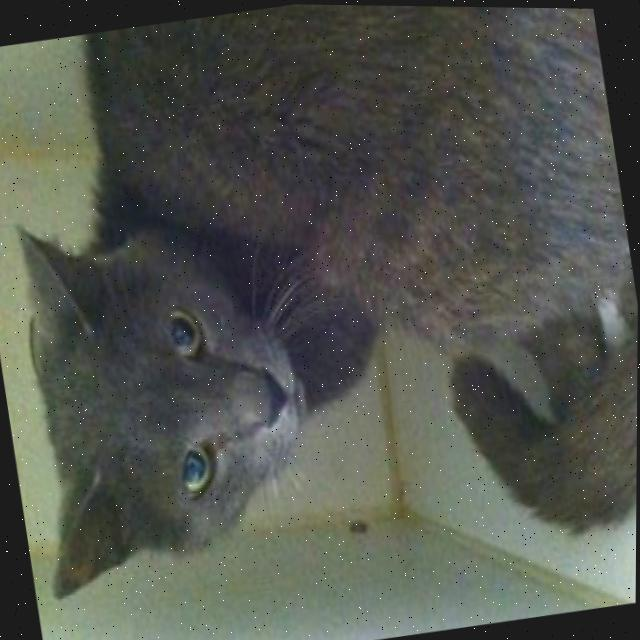Russian Blue: (0, 0, 640, 627)
